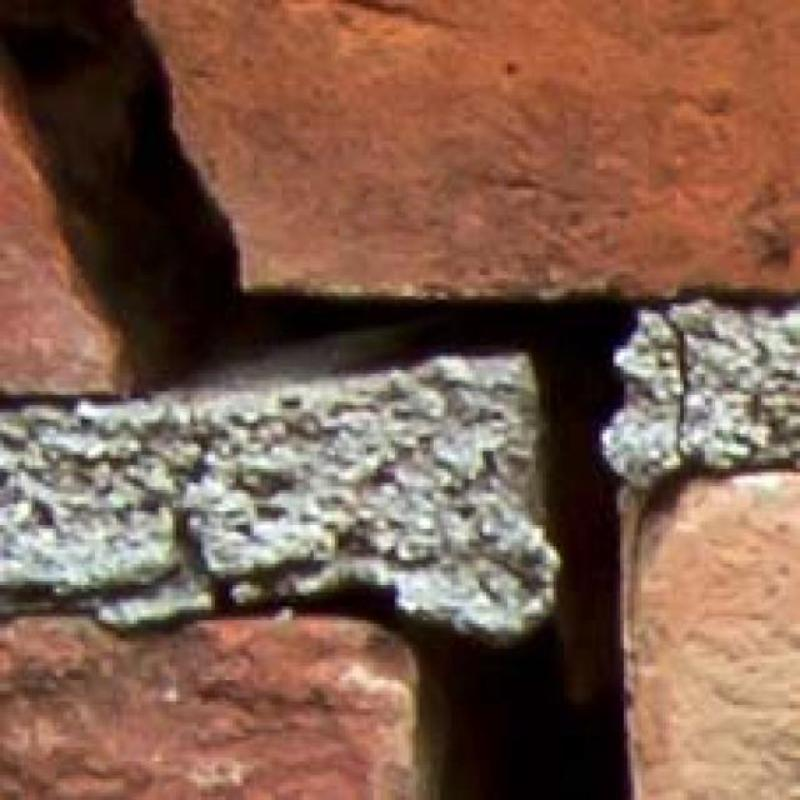pothole: (1, 0, 636, 799), (635, 291, 799, 519), (0, 389, 149, 410)
